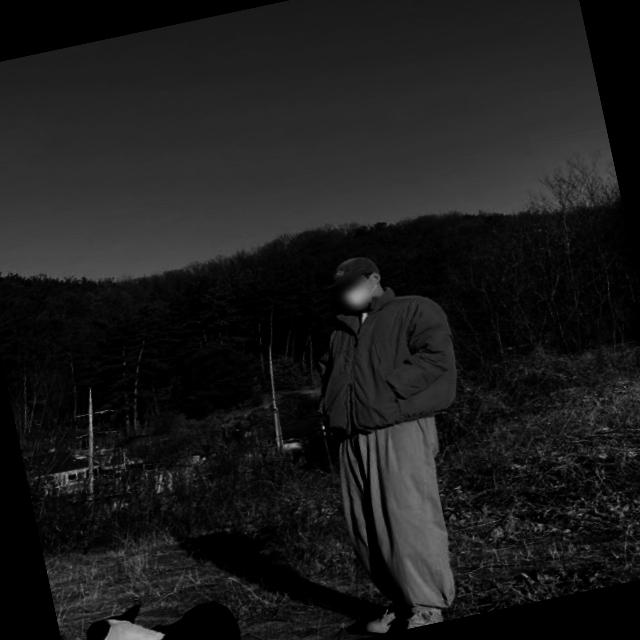cottonpants: (326, 406, 474, 620)
padding: (296, 281, 464, 436)
